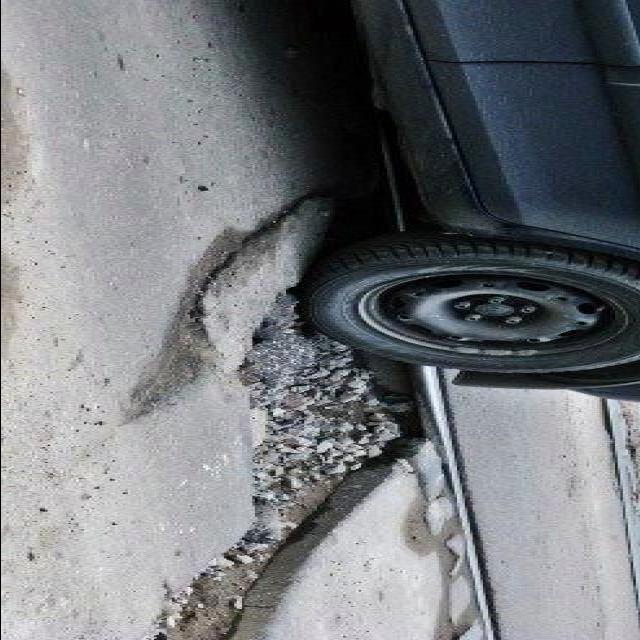jalan retak: (186, 160, 322, 296), (397, 460, 498, 640), (106, 286, 231, 410), (576, 398, 640, 612)
lubang: (179, 266, 453, 618), (108, 520, 334, 638)
